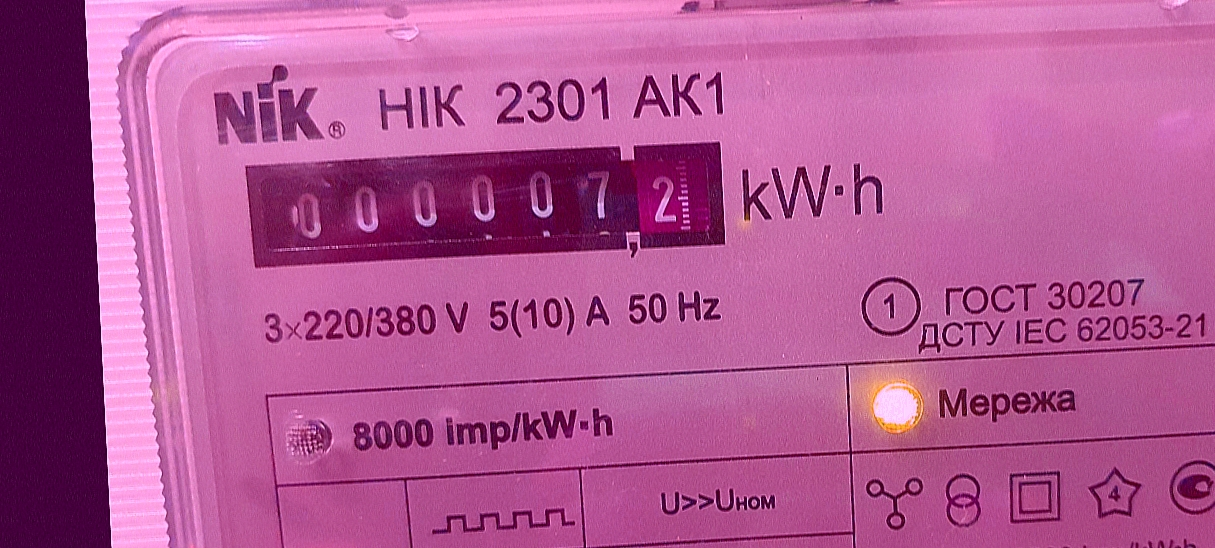0: (345, 179, 382, 233), (521, 166, 555, 220), (463, 168, 496, 223), (405, 174, 438, 228), (289, 187, 323, 239)
2: (645, 171, 677, 224)
7: (579, 164, 612, 220)
screen: (224, 120, 744, 287)
